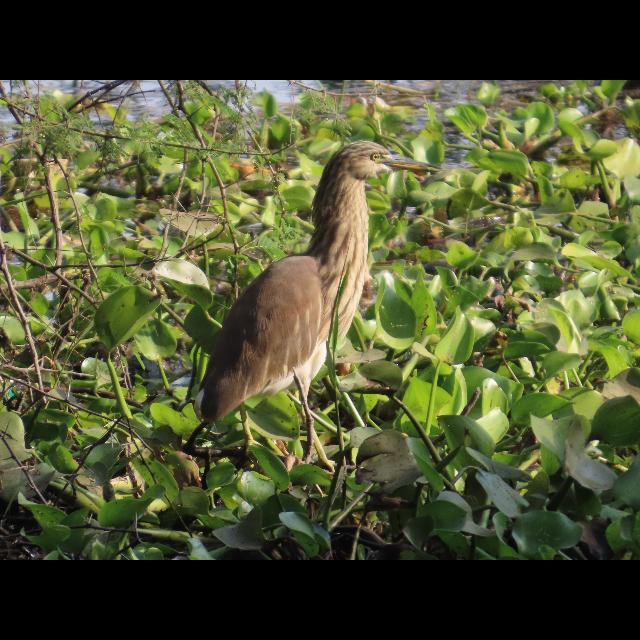heron: (197, 139, 437, 455)
